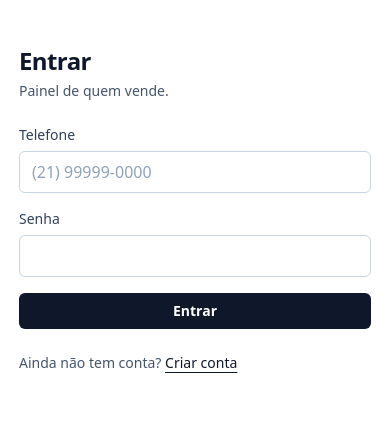
Test: EntrarPage › servidor fora mostra mensagem de servidor, e não de senha errada
Type "21999990000" into the field labelled "Telefone" at {"x": 195, "y": 172}, box [19,151,371,193]
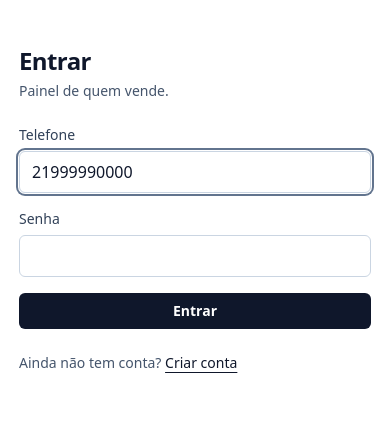
Type "senha-de-verdade" into the password field labelled "Senha" at {"x": 195, "y": 256}, box [19,235,371,277]
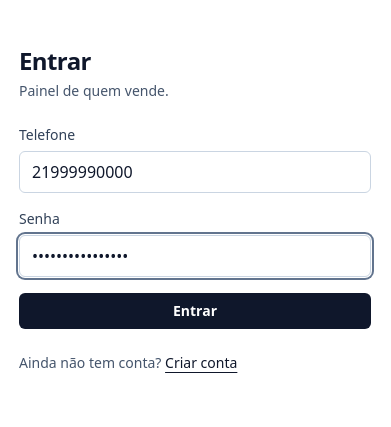
Click the button "Entrar" at {"x": 195, "y": 311}, box [19,293,371,329]
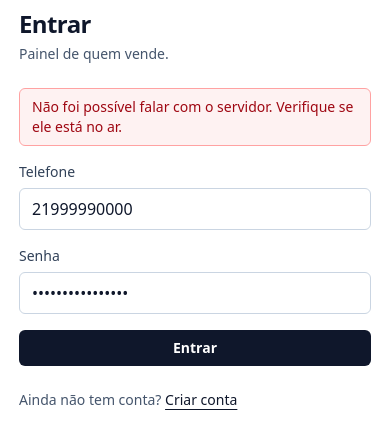
Check: the message shows "falar com o servidor", box [32,97,354,136]
